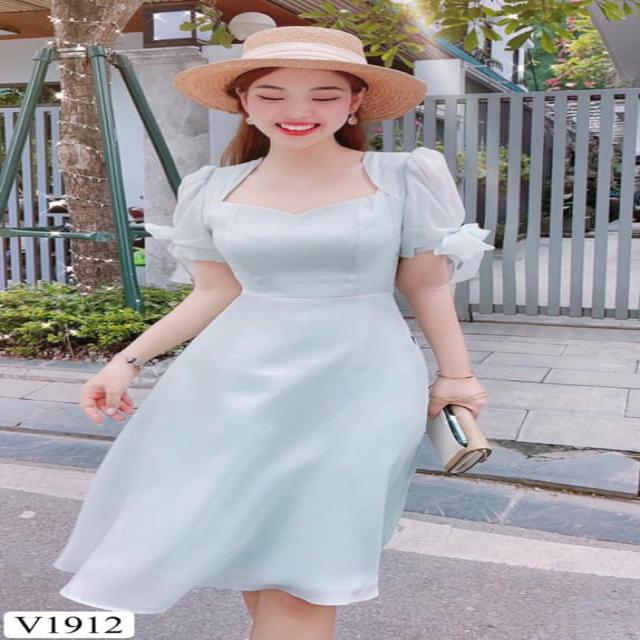clothes: (64, 152, 497, 612)
